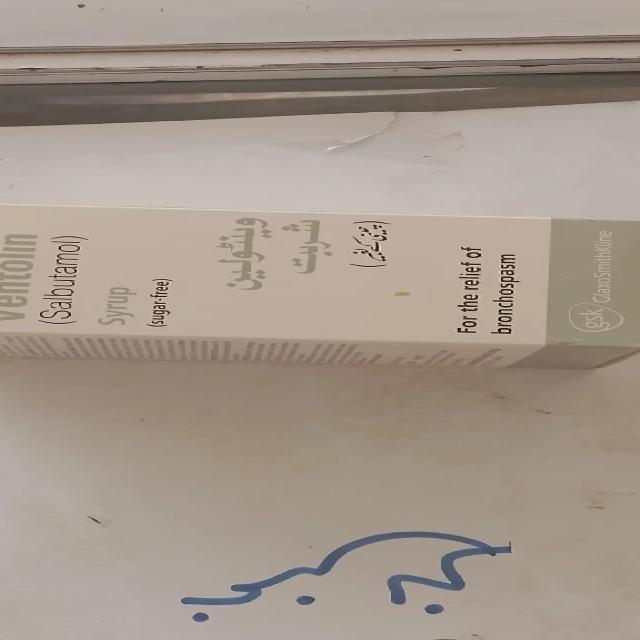drug-name: (0, 230, 42, 321)
